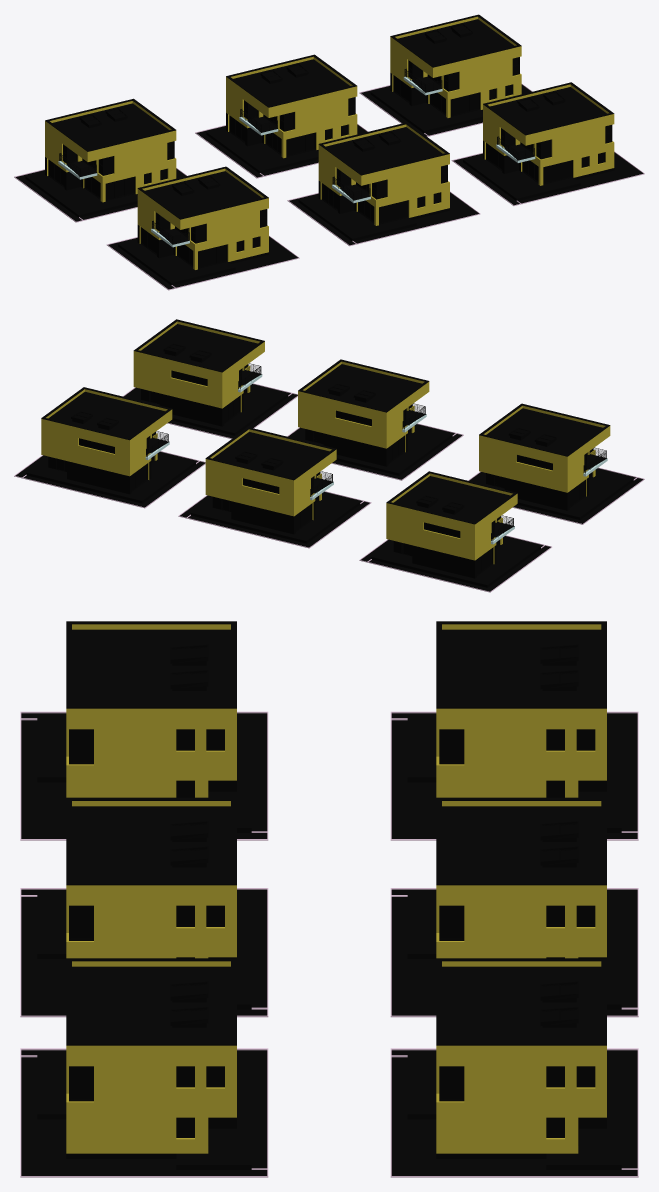
Rendered from condo.glb.
3 renders of one model, top to bottom at view 1: azimuth 30°, elevation 25°; view 2: azimuth 150°, elevation 25°; view 3: azimuth 270°, elevation 25°, orthographic. The views are drawn at different scales.
Parts seen in each view (by area): view 1: Modern House_1_obj.002, Modern House_1_obj.001, Modern House_1_obj, Modern House_1_obj.004, Modern House_1_obj.005, Modern House_1_obj.003; view 2: Modern House_1_obj.004, Modern House_1_obj.005, Modern House_1_obj.003, Modern House_1_obj.001, Modern House_1_obj.002, Modern House_1_obj; view 3: Modern House_1_obj, Modern House_1_obj.003, Modern House_1_obj.002, Modern House_1_obj.005, Modern House_1_obj.001, Modern House_1_obj.004.
Part boxes in pixels (x1,y1,x2,y2): Modern House_1_obj.002: [106, 166, 299, 290]; Modern House_1_obj.001: [287, 122, 480, 246]; Modern House_1_obj: [451, 82, 644, 205]; Modern House_1_obj.004: [195, 54, 368, 178]; Modern House_1_obj.005: [14, 98, 187, 222]; Modern House_1_obj.003: [359, 14, 532, 136]; Modern House_1_obj.004: [178, 427, 371, 548]; Modern House_1_obj.005: [359, 471, 551, 592]; Modern House_1_obj.003: [14, 387, 205, 508]; Modern House_1_obj.001: [287, 359, 463, 480]; Modern House_1_obj.002: [468, 403, 644, 524]; Modern House_1_obj: [122, 319, 297, 438]; Modern House_1_obj: [20, 958, 268, 1177]; Modern House_1_obj.003: [390, 958, 638, 1177]; Modern House_1_obj.002: [20, 621, 268, 840]; Modern House_1_obj.005: [390, 621, 638, 840]; Modern House_1_obj.001: [20, 797, 268, 1017]; Modern House_1_obj.004: [390, 797, 638, 1017].
Size of the model in its own units: 98.11 by 11.58 by 55.15.
